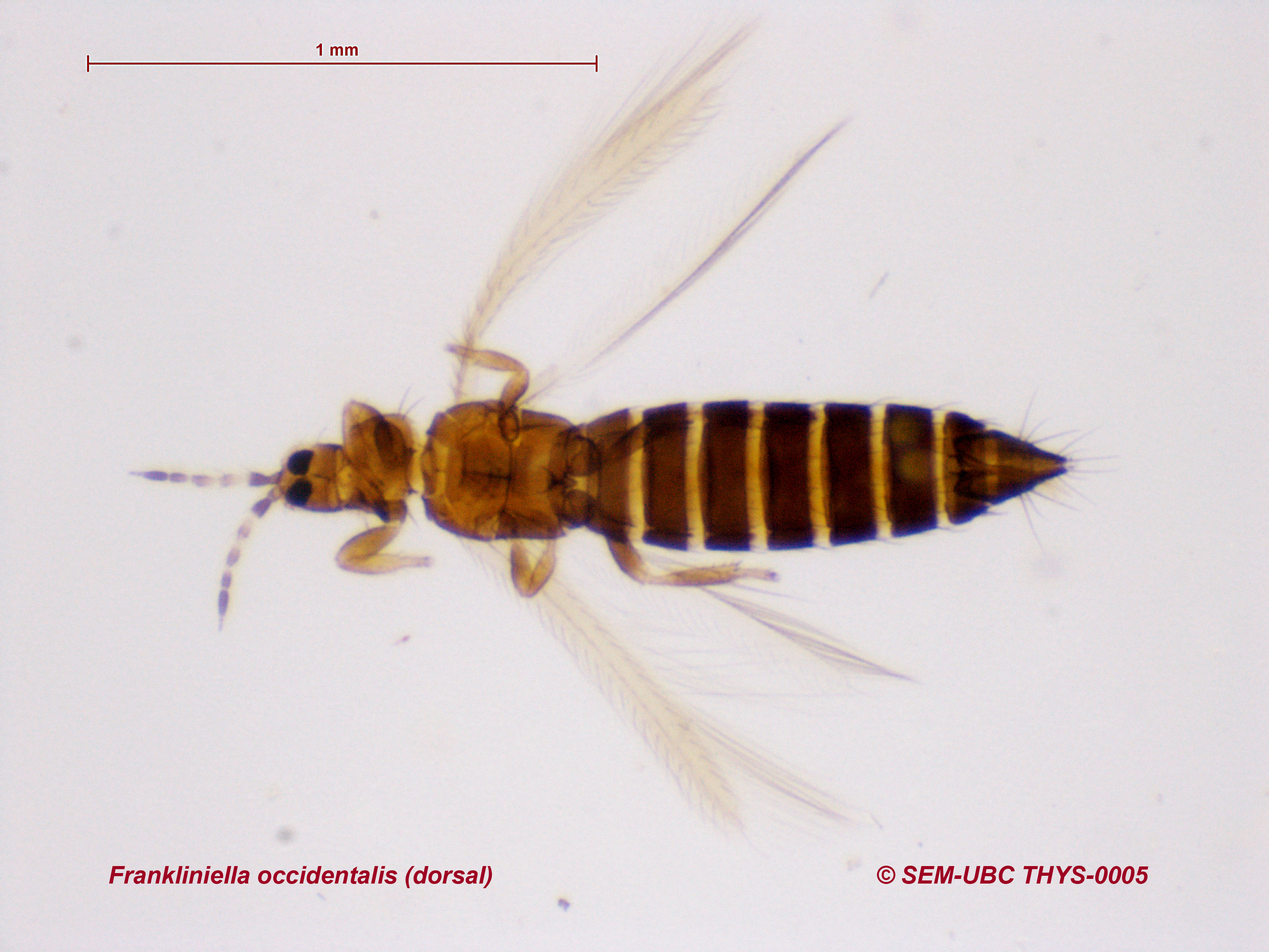Thripidae: (127, 5, 1104, 850)
